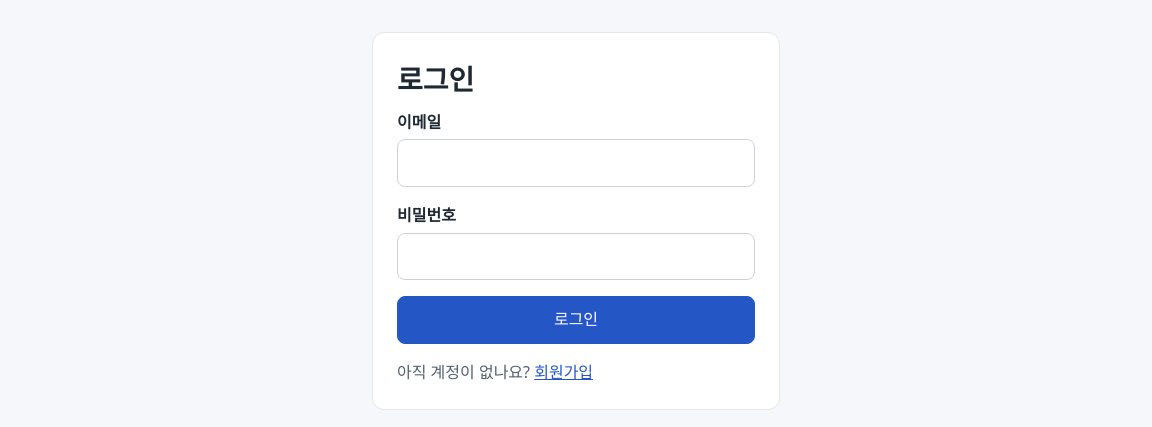
Test: 로그인 › 성공하면 내 기록 홈으로 이동한다
Check: the heading "로그인" is shown, box 397,60 -> 474,98
Type "user1@example.com" into the field labelled "이메일" at (576, 163), box 397,139 -> 755,187
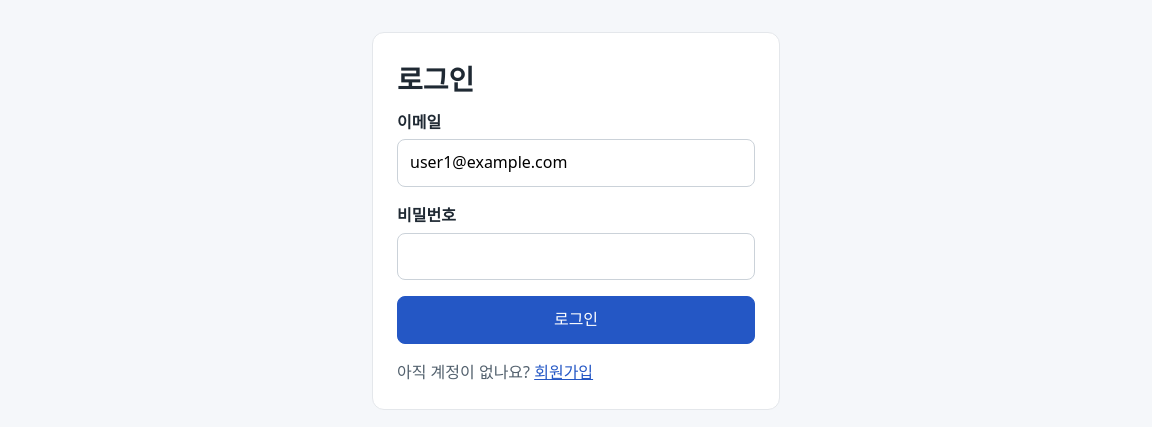
Type "password123" into the password field labelled "비밀번호" at (576, 256), box 397,233 -> 755,280
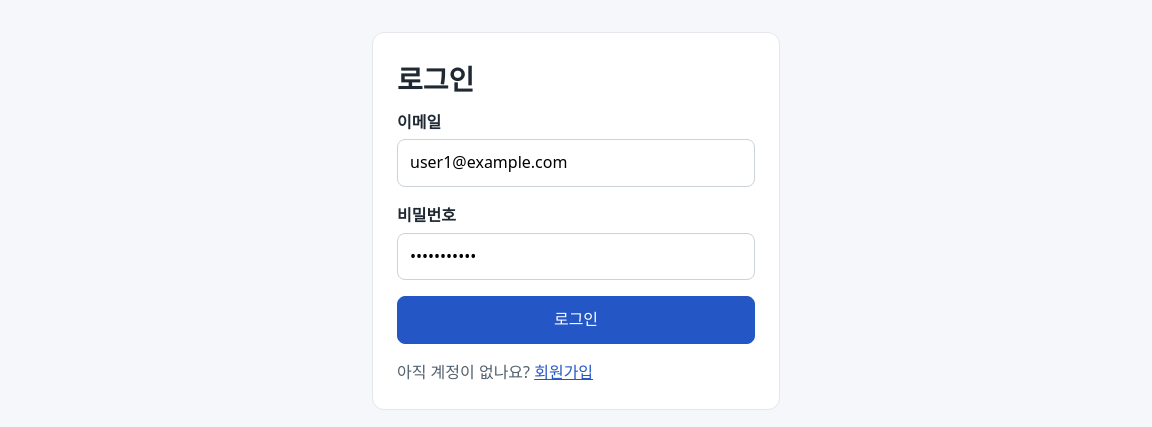
Click the button "로그인" at (576, 320), box 397,296 -> 755,344
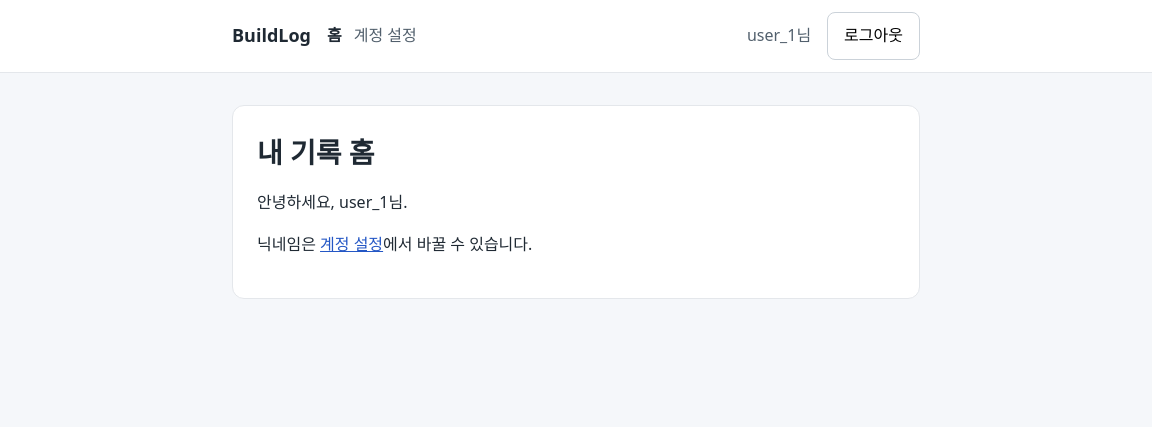
Check: the heading "내 기록 홈" is shown, box 257,133 -> 375,171
